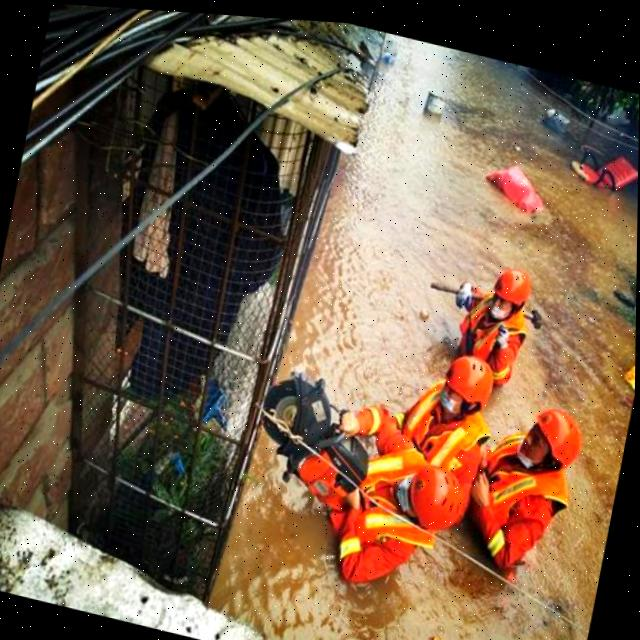rescuer: (264, 360, 491, 632), (454, 377, 588, 627), (384, 326, 515, 542), (438, 235, 564, 416)
